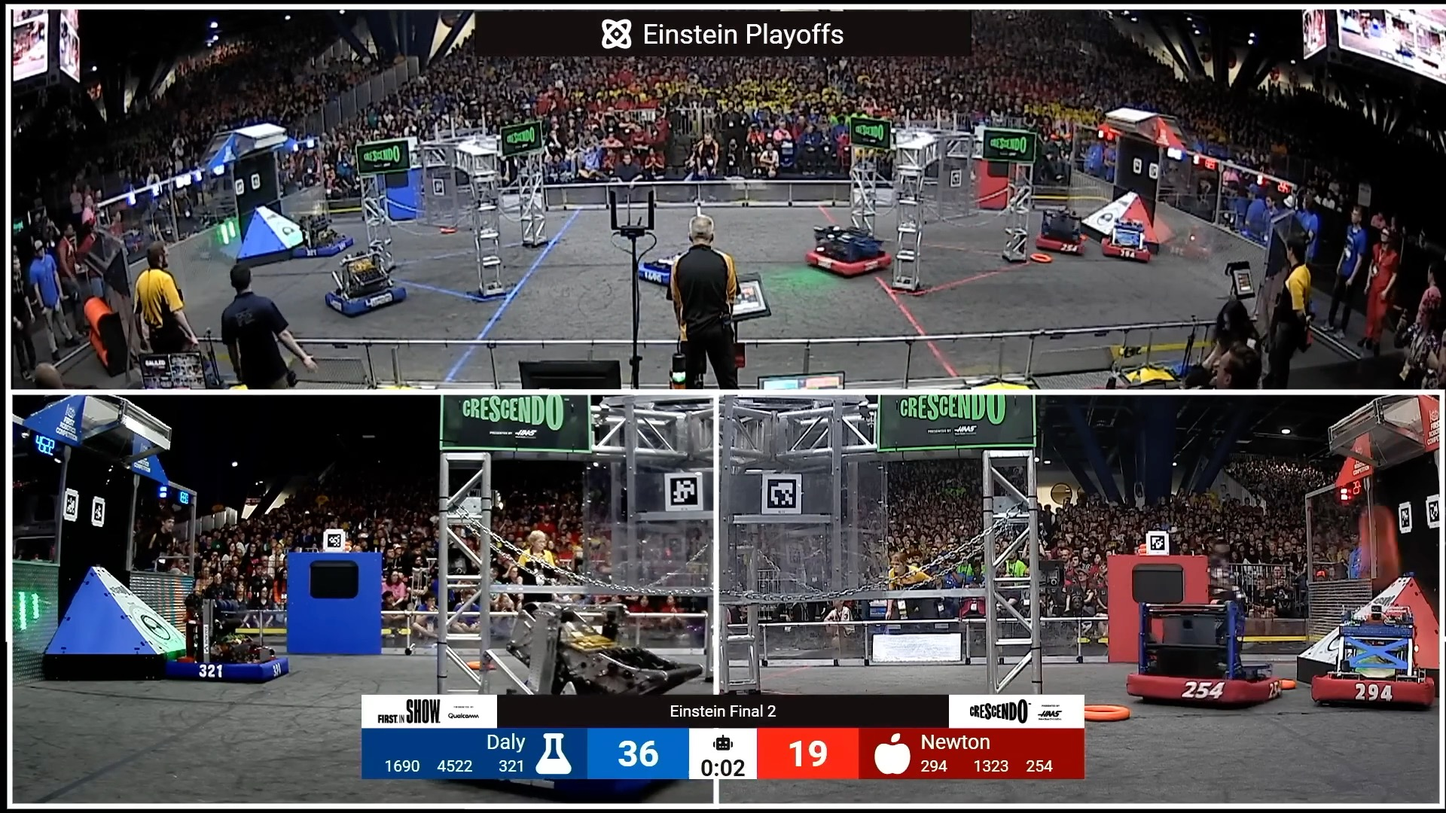bumpers: (1126, 667, 1304, 721), (175, 647, 302, 688), (1312, 671, 1438, 708), (797, 239, 899, 284), (314, 280, 416, 322), (639, 253, 707, 287), (293, 235, 355, 258), (1096, 241, 1157, 264), (1034, 233, 1090, 255)
